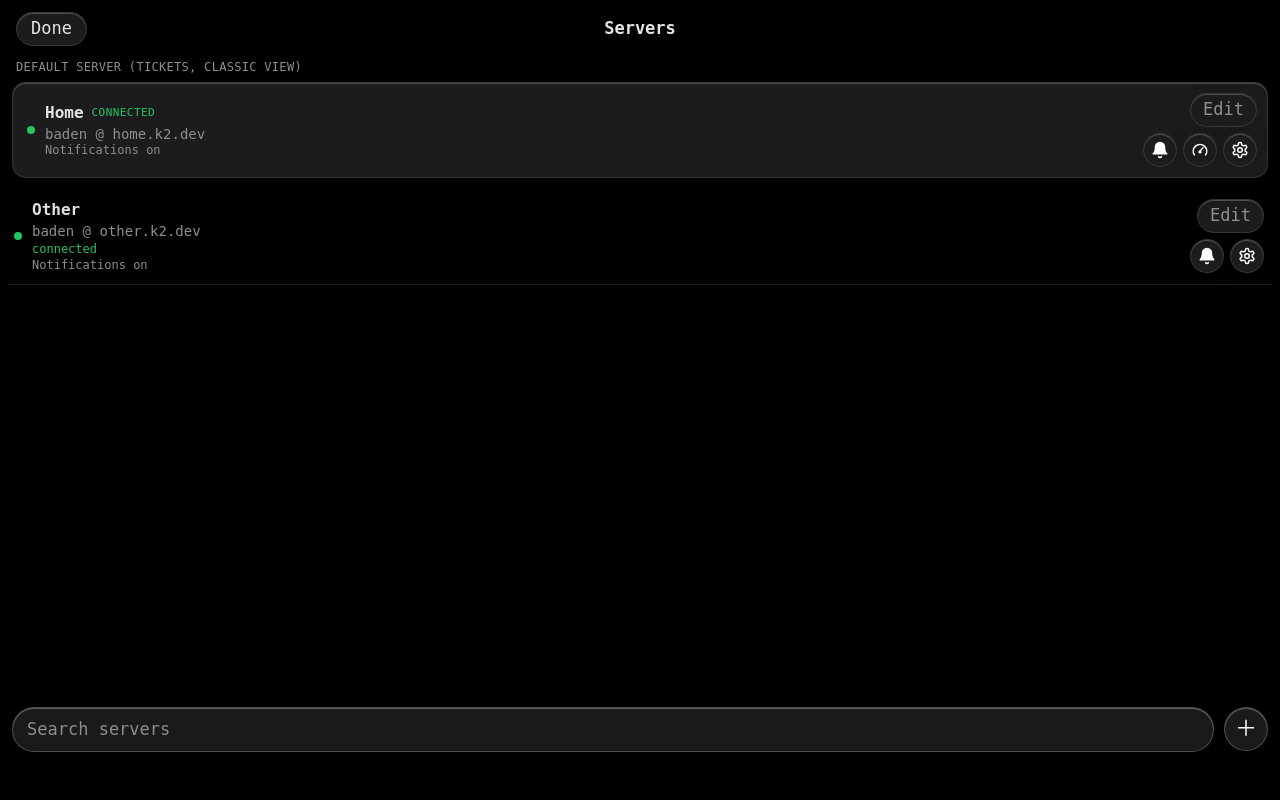
Scenario: Servers sheet bell › a failed toggle rolls the bell back
Click the 1st button with test id "server-bell" at (1160, 150), box [1143, 133, 1177, 167]
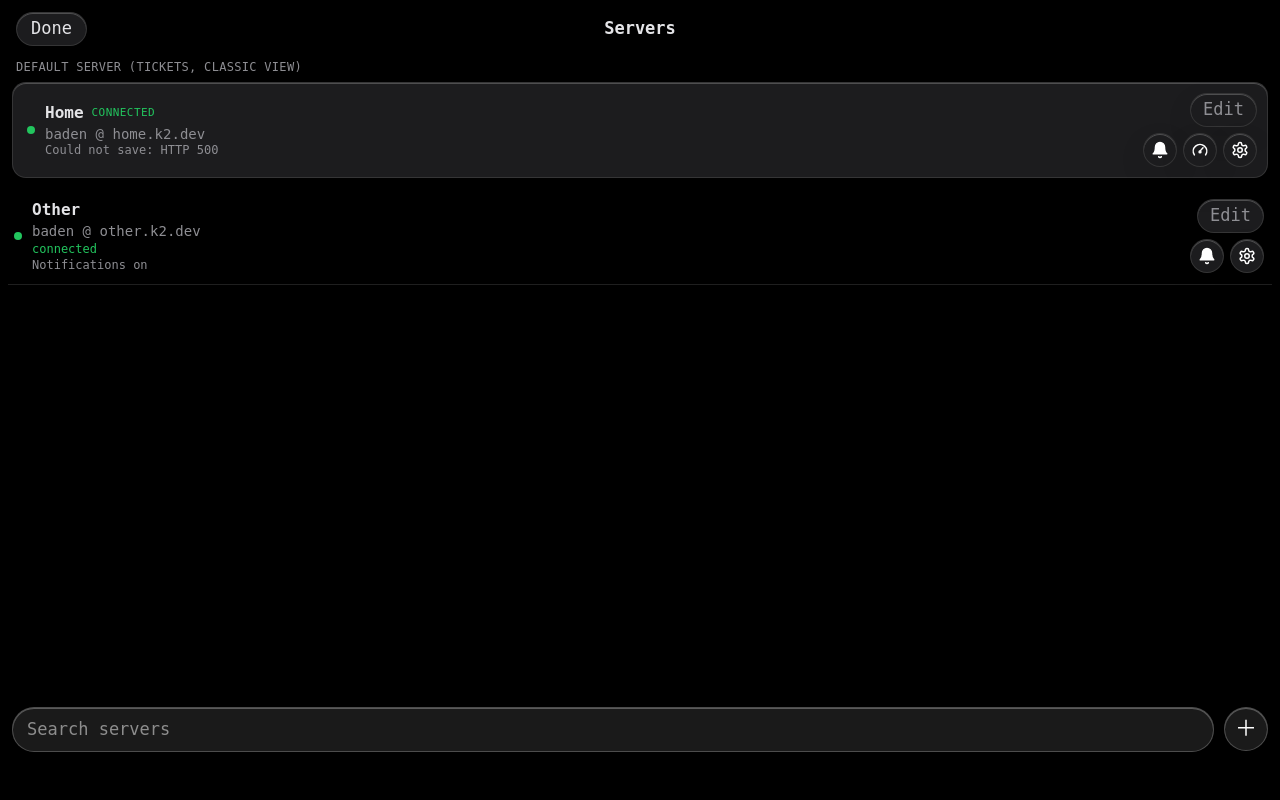
Expected: the text with test id "server-notify-status" shows "Could not save", [45, 143, 218, 157]
